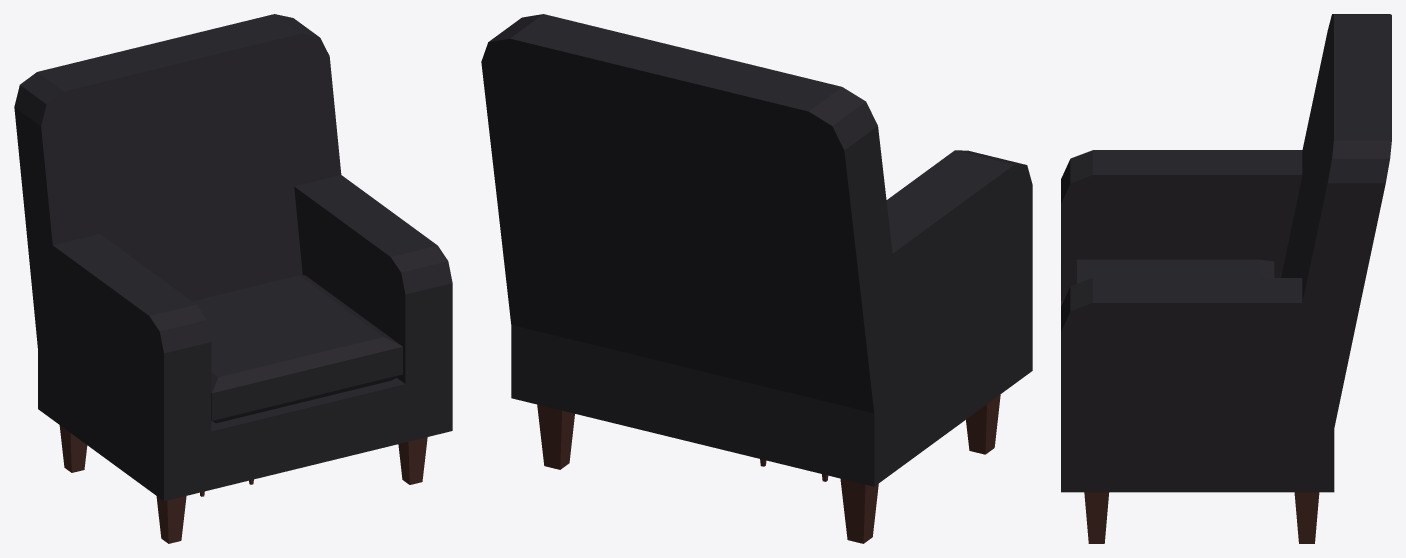
Rendered from Armchair11.glb.
3 views of the same model, side by side, from view 1: azimuth 30°, elevation 25°; view 2: azimuth 150°, elevation 25°; view 3: azimuth 270°, elevation 25° (orthographic). The views are drawn at different scales.
Parts seen in each view (by area): view 1: Armchair; view 2: Armchair; view 3: Armchair.
Part boxes in pixels (x1,y1,x2,y2): Armchair: [14, 14, 452, 543]; Armchair: [481, 14, 1032, 543]; Armchair: [1061, 14, 1391, 543].
Bounding box in the file's own units: 2.89 × 3.51 × 2.64.
2 materials, 2 textured.
